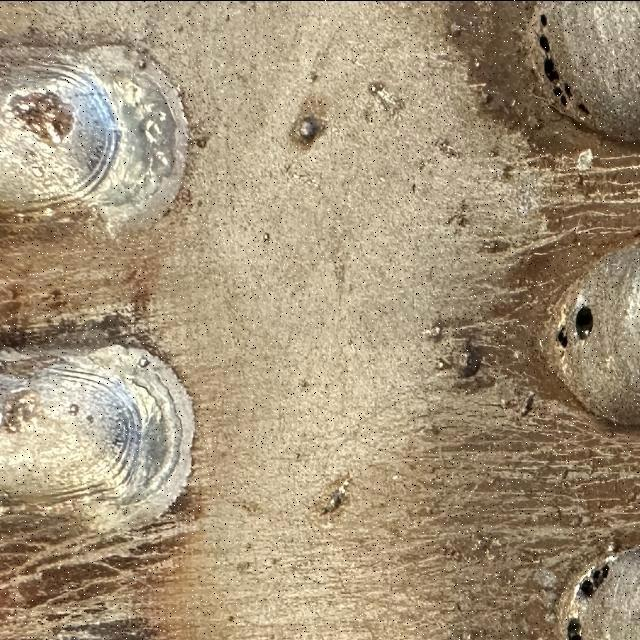Excess Reinforcement: (76, 45, 188, 233), (105, 345, 194, 522)
Porosity: (575, 305, 592, 338), (591, 563, 609, 588), (578, 577, 595, 598), (544, 57, 558, 82), (566, 617, 581, 640), (552, 85, 567, 107), (556, 325, 568, 347), (539, 33, 550, 52), (578, 102, 589, 113), (540, 13, 547, 25), (565, 83, 571, 97)
Spatters: (321, 478, 350, 513), (294, 113, 324, 143), (459, 340, 481, 377), (424, 322, 442, 342), (521, 393, 534, 417), (369, 80, 384, 95), (436, 357, 450, 370), (529, 116, 544, 128), (450, 22, 461, 37), (462, 628, 474, 640), (195, 137, 208, 148), (135, 57, 146, 70), (416, 158, 428, 168), (69, 403, 79, 415), (139, 357, 150, 367), (264, 232, 270, 242), (474, 60, 481, 67), (511, 98, 516, 105)
